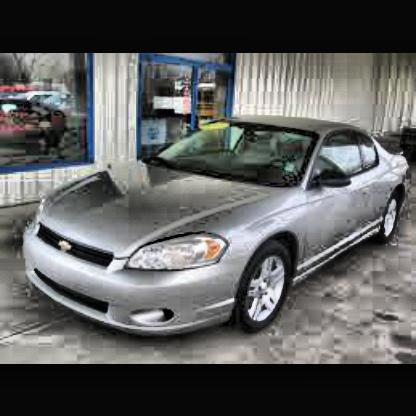Chevrolet Monte Carlo Coupe 2007: (25, 113, 415, 342)
